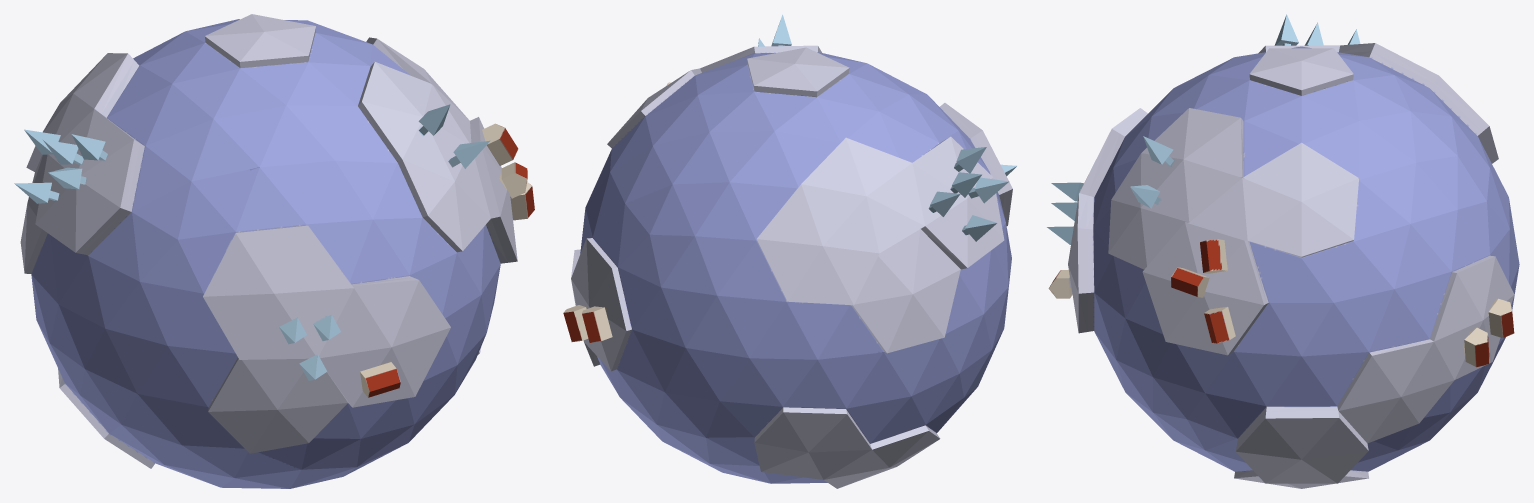
The model's file is IceageUVGeoOrigin.dae.
The picture shows the model from 3 angles, left to right: view 1: azimuth 30°, elevation 25°; view 2: azimuth 150°, elevation 25°; view 3: azimuth 270°, elevation 25°; orthographic projection. The views are drawn at different scales.
Visible parts, largest first — view 1: TerraUV; view 2: TerraUV; view 3: TerraUV.
Part boxes in pixels (left/top/right/bottom): TerraUV: left=14, top=14, right=534, bottom=488; TerraUV: left=563, top=14, right=1016, bottom=488; TerraUV: left=1047, top=14, right=1519, bottom=488.
Bounding box in the file's own units: 2.29 × 2.08 × 2.22.
Materials: 1 (1 with a texture image).
